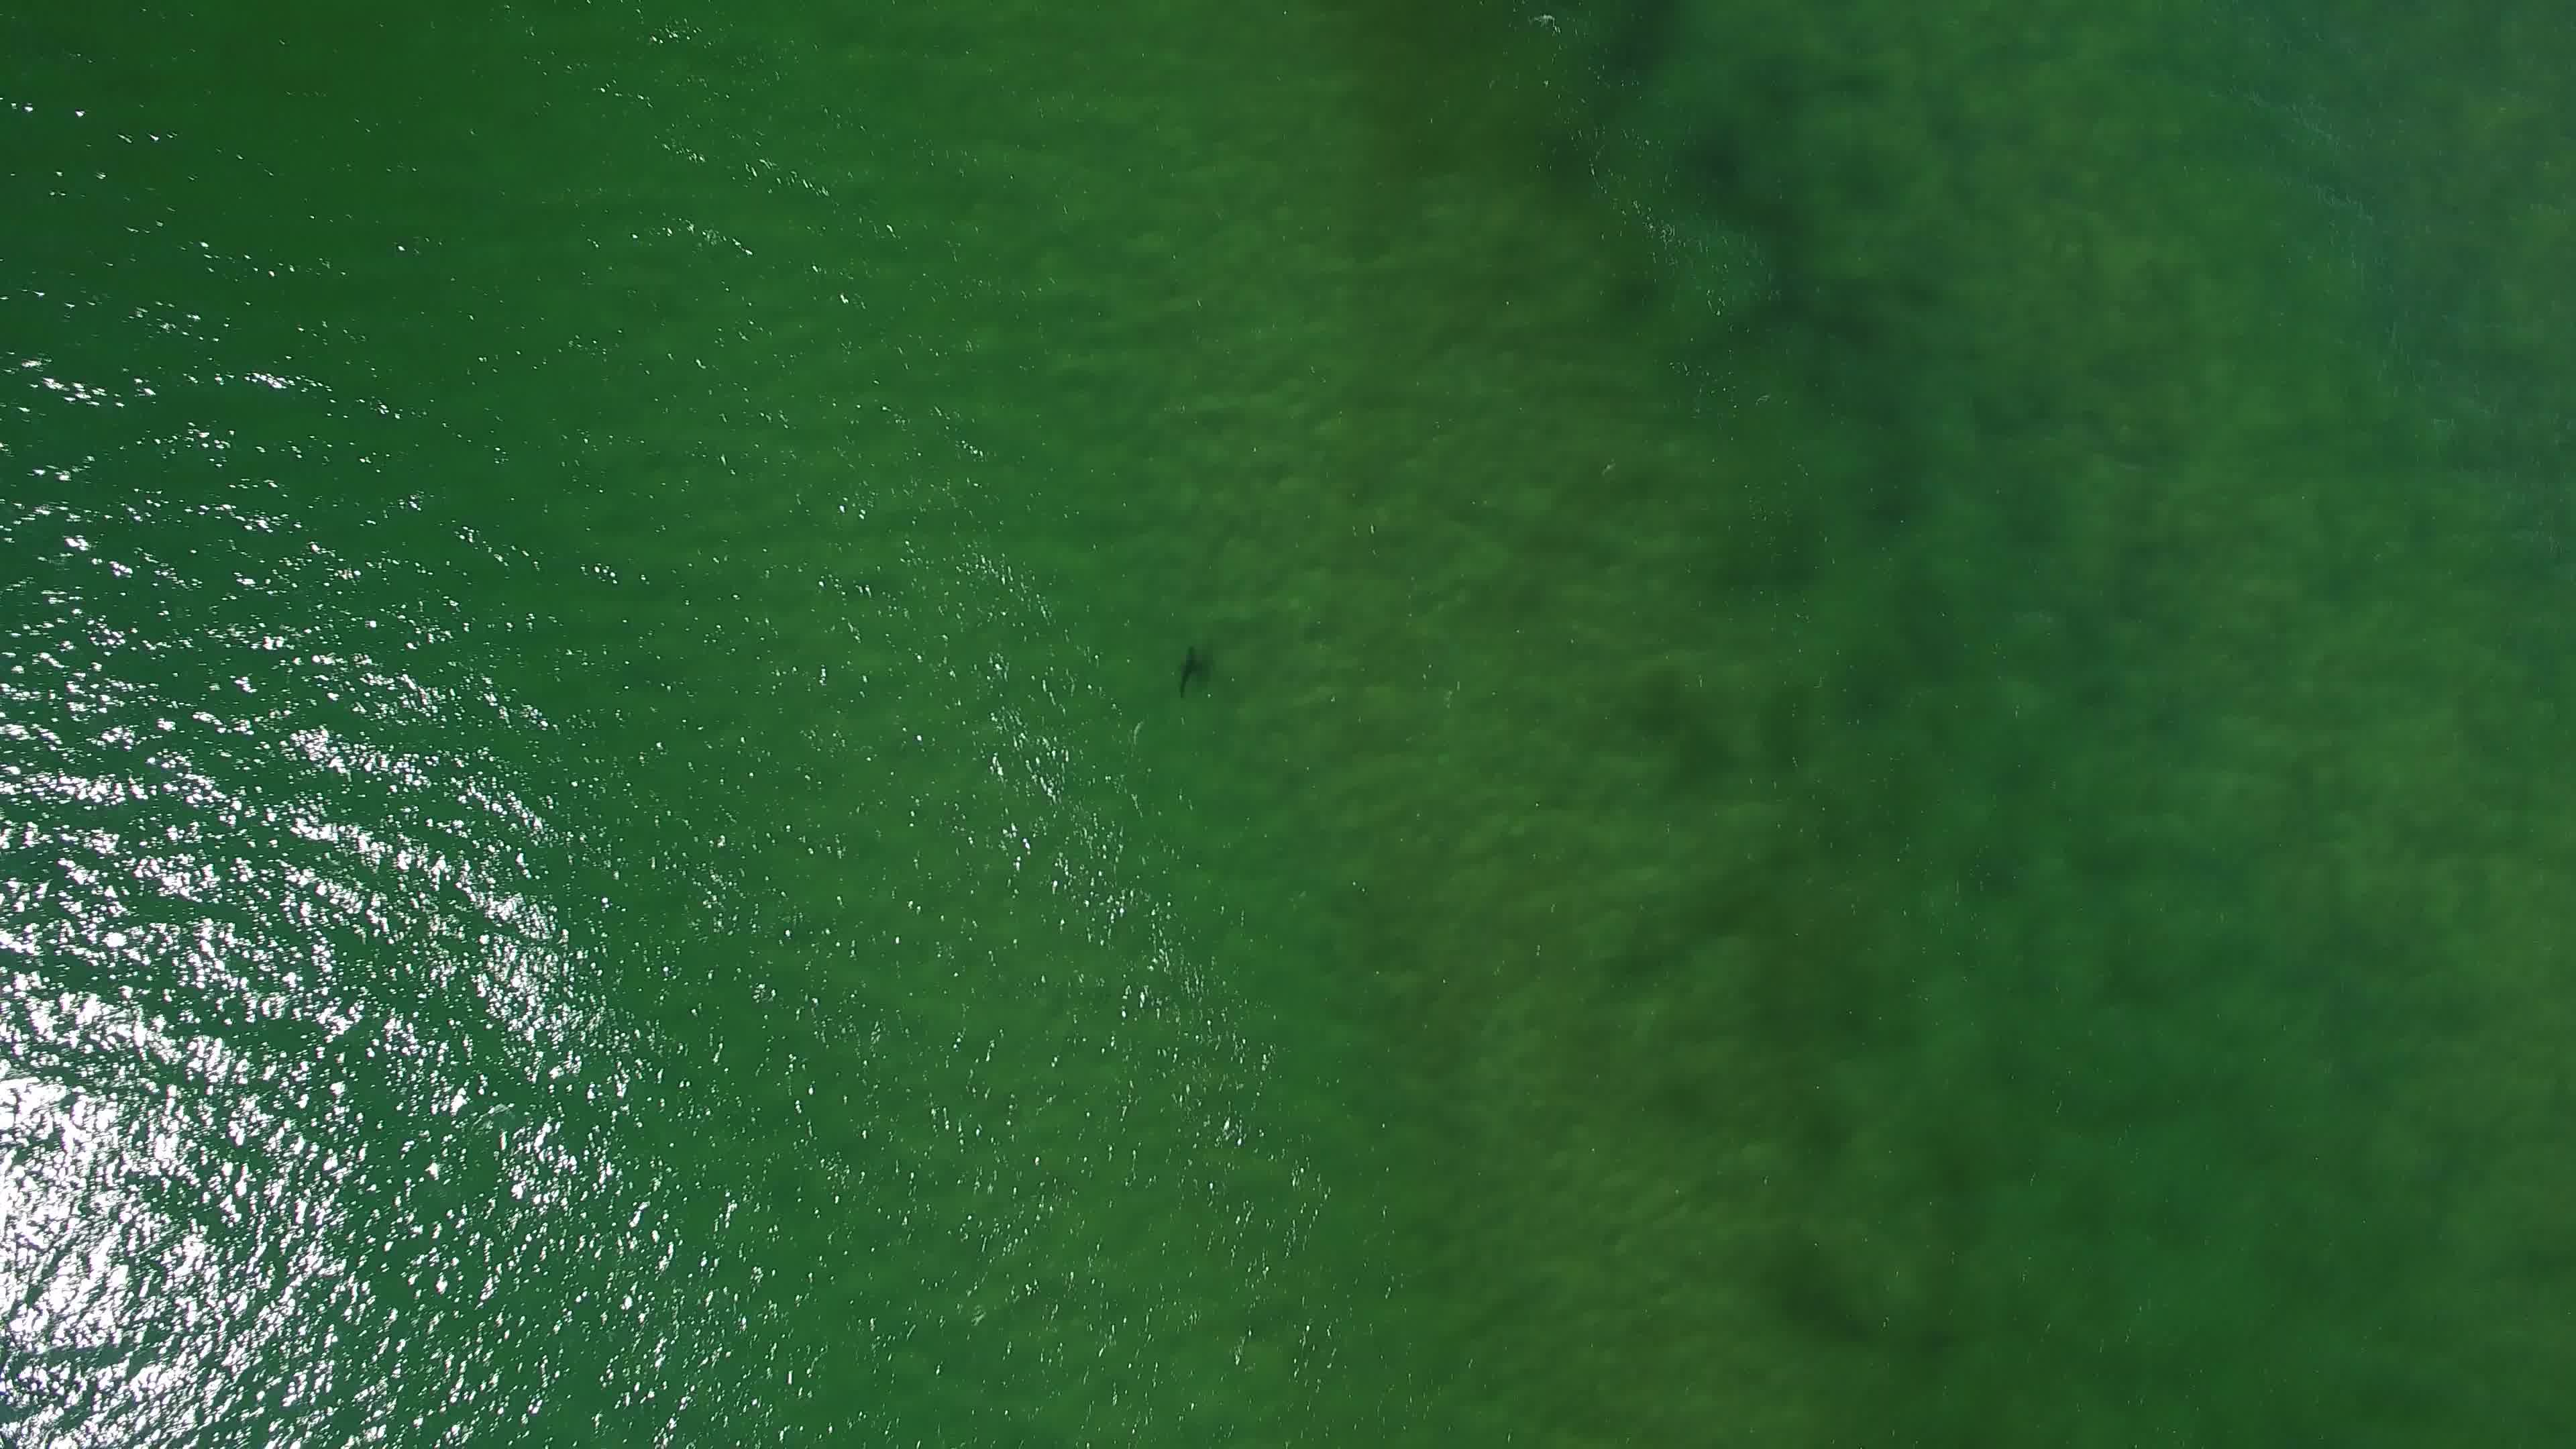shark: (1171, 642, 1212, 701)
